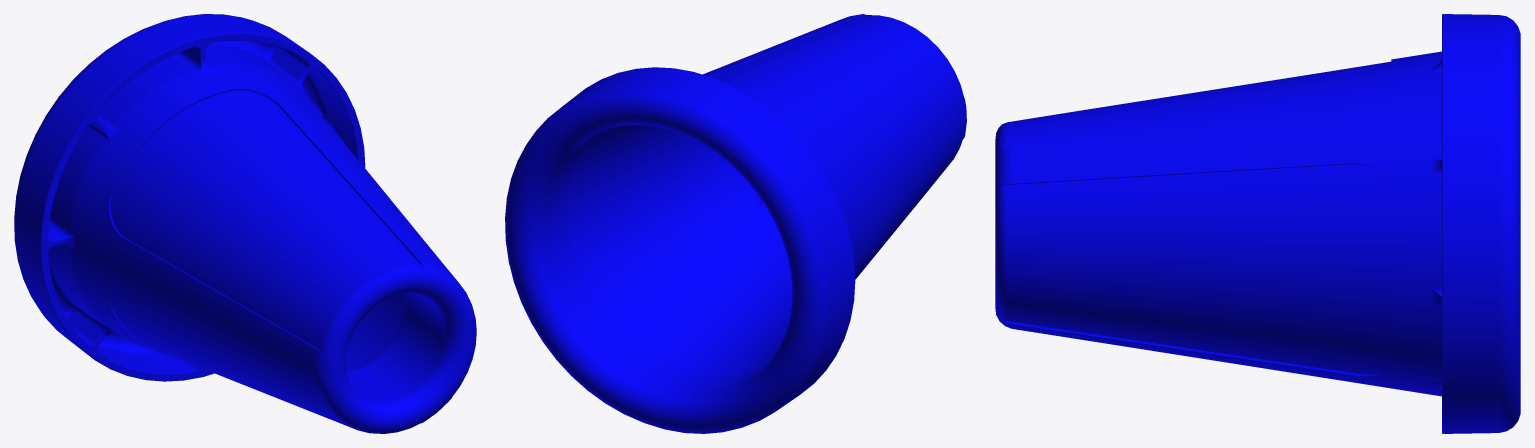
The model's file is blue-cone.glb.
3 renders of one model, left to right at view 1: azimuth 30°, elevation 25°; view 2: azimuth 150°, elevation 25°; view 3: azimuth 270°, elevation 25°, orthographic. The views are drawn at different scales.
Parts seen in each view (by area): view 1: Solid1; view 2: Solid1; view 3: Solid1.
Part boxes in pixels (left/top/right/bottom): Solid1: left=14, top=14, right=476, bottom=433; Solid1: left=505, top=14, right=966, bottom=433; Solid1: left=995, top=14, right=1520, bottom=433.
Size of the model in its own units: 0.1016 by 0.1016 by 0.1269.
